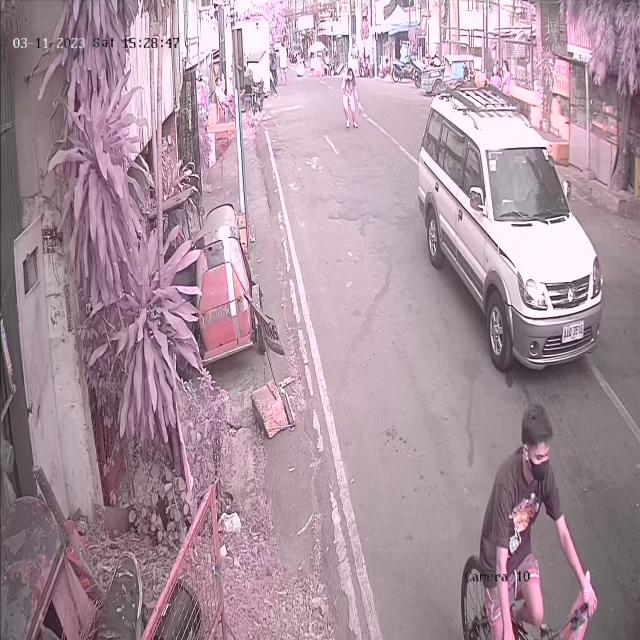human: (341, 68, 363, 129)
trash: (356, 103, 363, 115)
